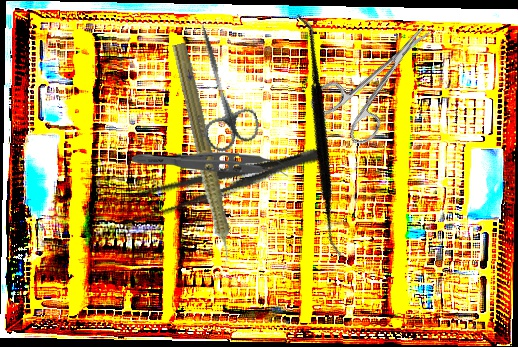Dressing Forceps: (118, 136, 330, 229)
Handpiece: (163, 41, 243, 278)
Iris Scissors: (305, 3, 456, 155), (173, 15, 264, 156)
Spatula Surgical: (202, 12, 436, 259)
Tissue Forceps: (131, 150, 289, 180)
